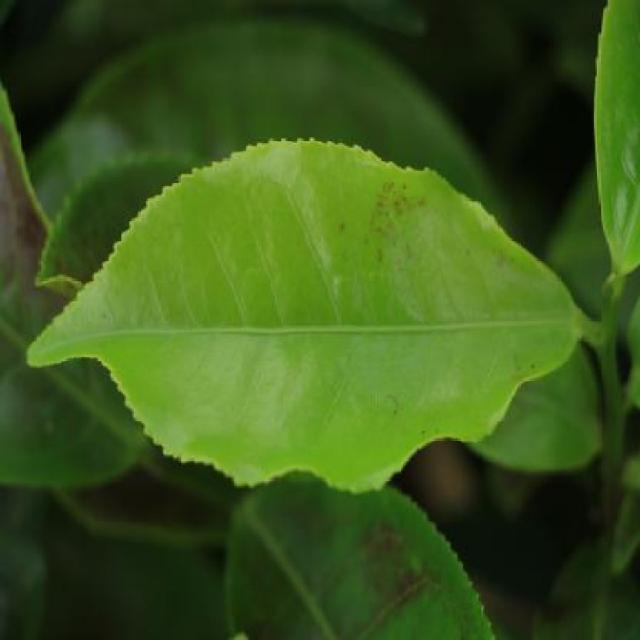Red Spider infested tea leaf: (208, 122, 603, 469)
